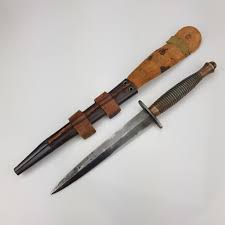knife: (48, 57, 217, 197)
